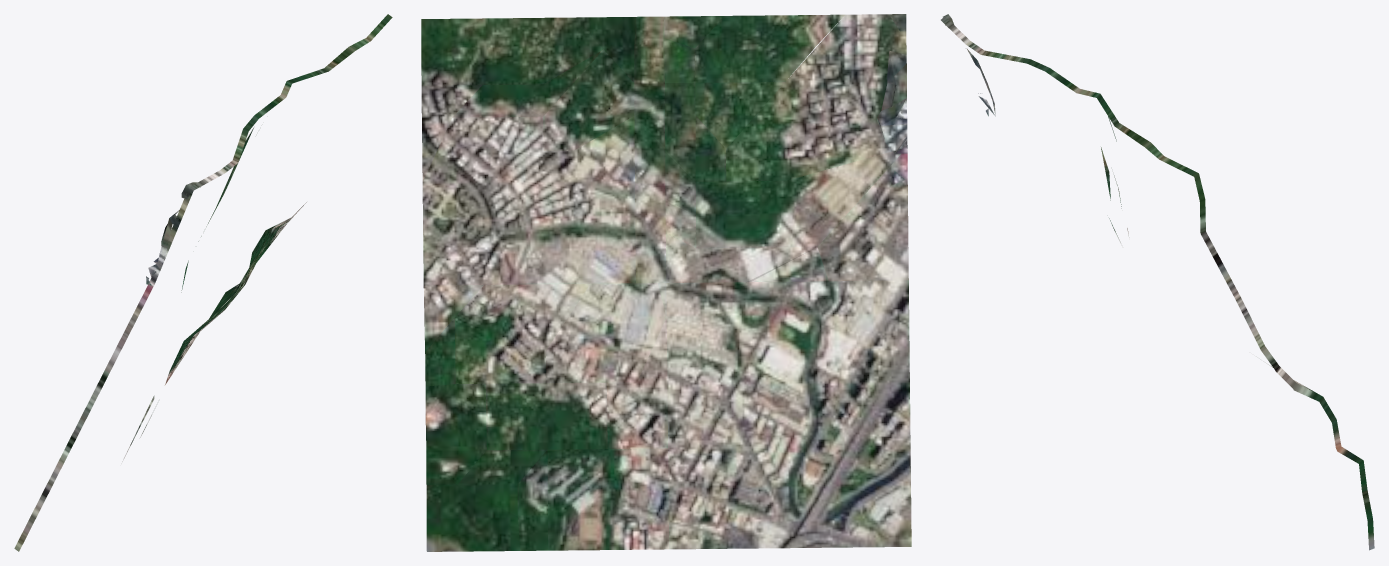
3 views of the same model, side by side, from view 1: azimuth 30°, elevation 25°; view 2: azimuth 150°, elevation 25°; view 3: azimuth 270°, elevation 25° (orthographic). The views are drawn at different scales.
Bounding box in the file's own units: 1195 × 1145 × 1042.
1 material, 1 textured.
